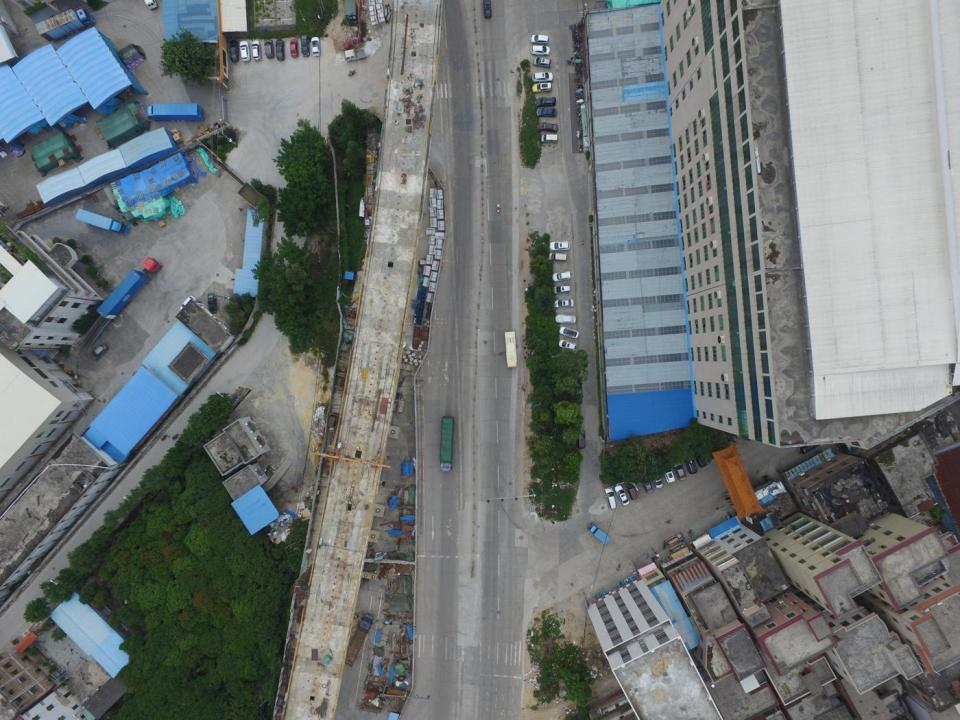bus: (504, 331, 518, 368)
car: (798, 434, 828, 455), (90, 343, 107, 363), (614, 485, 630, 506), (684, 451, 698, 475), (625, 479, 639, 501), (673, 459, 687, 481), (555, 311, 576, 325), (179, 295, 196, 312), (533, 96, 557, 108), (206, 292, 218, 314), (239, 40, 251, 62), (250, 39, 262, 61), (532, 71, 554, 83), (534, 107, 558, 118), (572, 378, 583, 402), (559, 326, 579, 339), (310, 36, 322, 57), (531, 82, 552, 94), (537, 122, 559, 133), (549, 240, 571, 251), (550, 270, 572, 281), (274, 38, 284, 62), (551, 284, 572, 295), (553, 298, 574, 309), (300, 34, 310, 57), (229, 40, 239, 62), (264, 37, 274, 59), (530, 33, 550, 44), (530, 45, 550, 56), (696, 448, 707, 468), (558, 338, 576, 350), (576, 428, 586, 449), (540, 133, 559, 144), (289, 38, 299, 58), (533, 57, 551, 68), (642, 476, 653, 494), (664, 466, 675, 484), (547, 252, 568, 261), (483, 0, 492, 18), (653, 474, 663, 489), (347, 69, 356, 76)
truck: (81, 256, 162, 346), (335, 613, 374, 667), (34, 9, 96, 42), (76, 208, 130, 237), (145, 102, 205, 124), (439, 415, 454, 472), (586, 521, 612, 545), (344, 47, 366, 63)
van: (605, 487, 617, 509)
